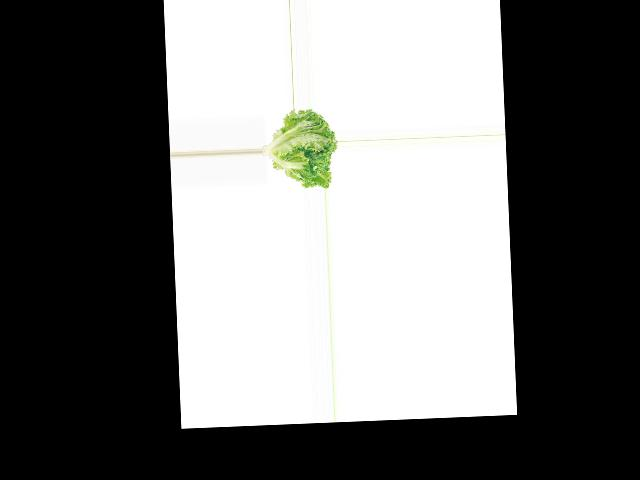lettuce: (260, 107, 338, 190)
